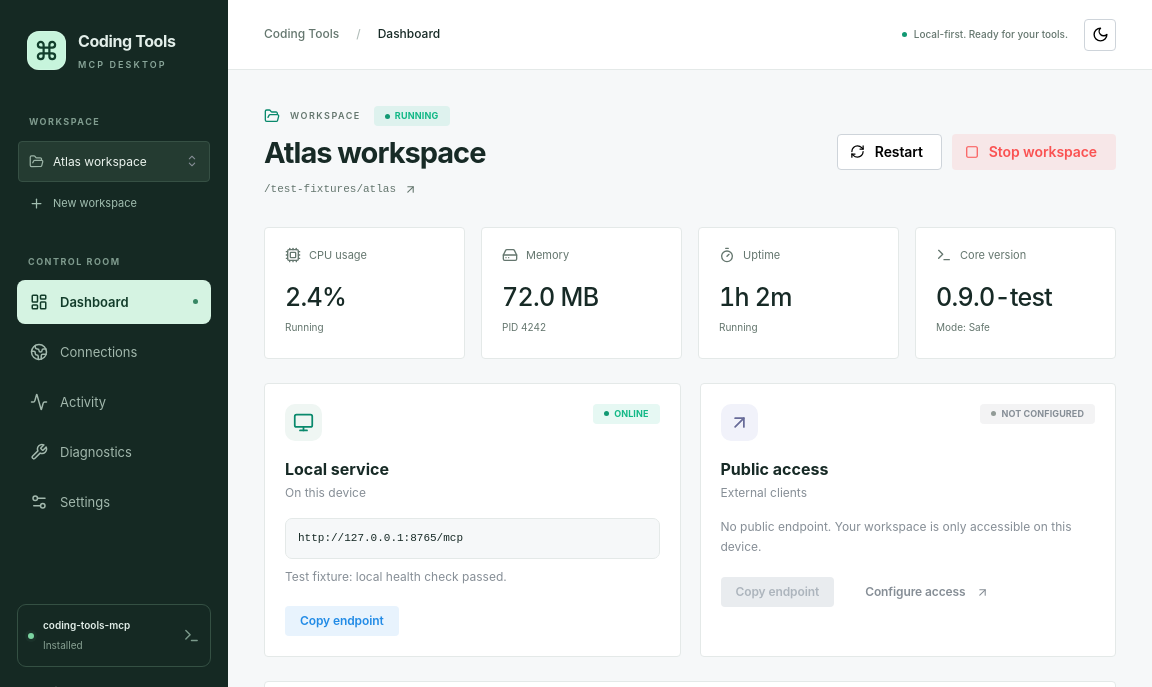
Test case: desktop interrupted and delayed IPC flows › clears accumulated log output when the backend resets a deleted log's cursor
Click the button "Diagnostics" at (114, 452), box [17, 430, 211, 474]
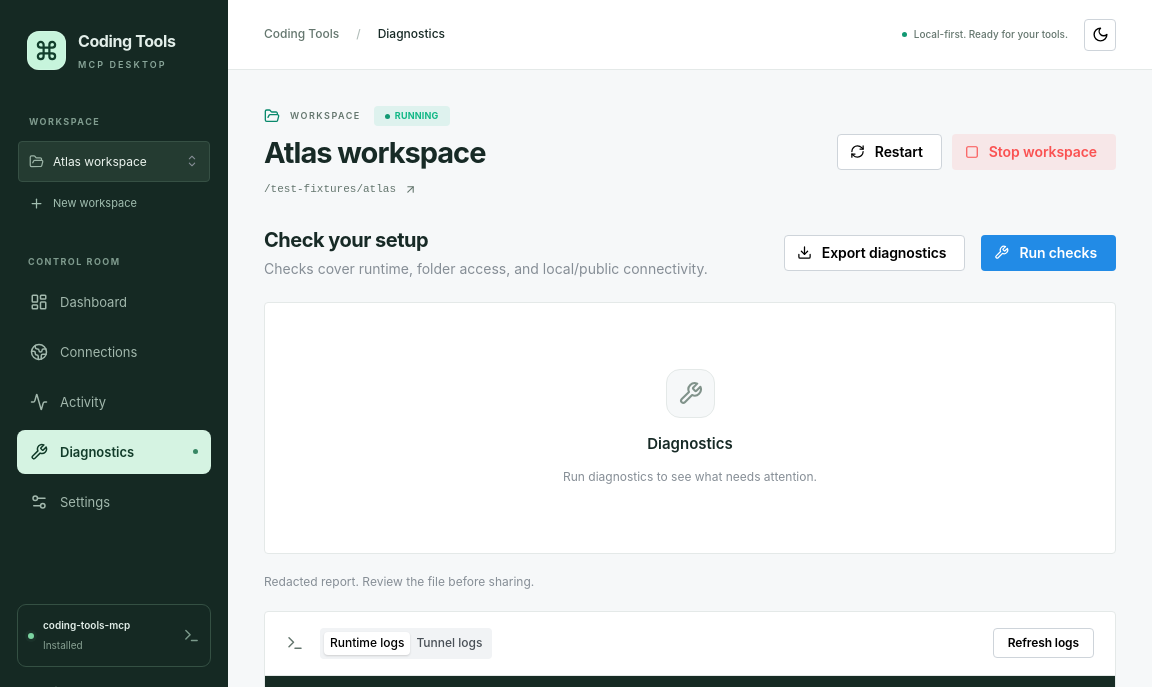
Click the button "Refresh logs" at (1043, 643), box [993, 628, 1094, 658]
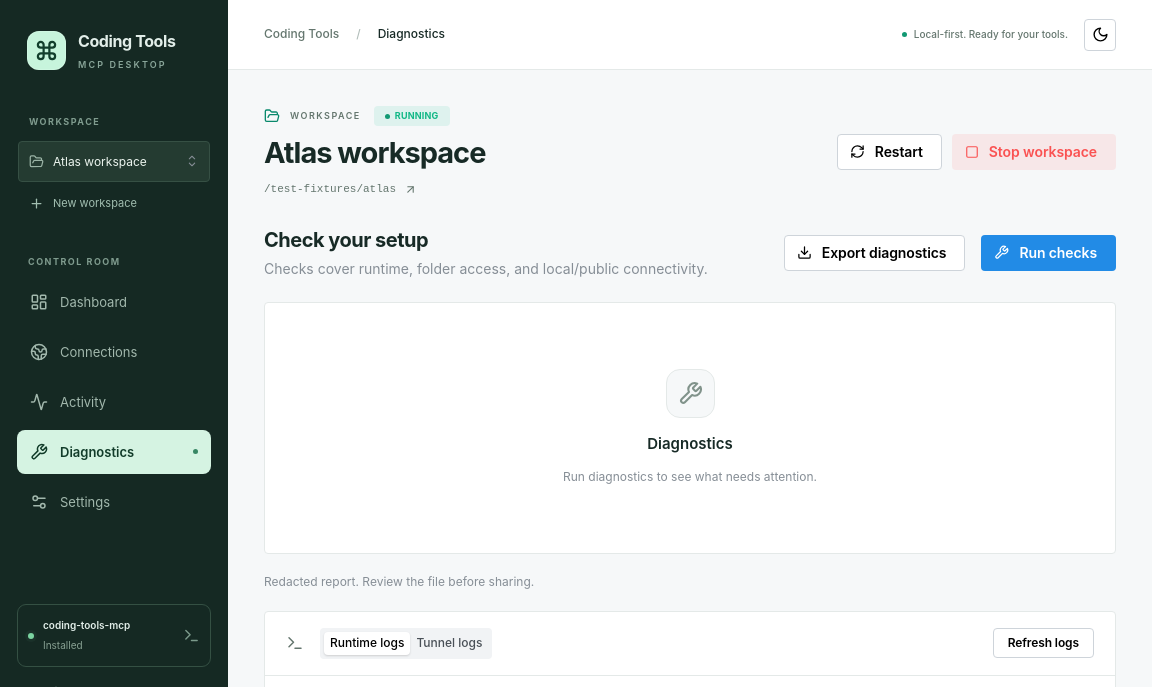
Click the button "Refresh logs" at (1043, 643), box [993, 628, 1094, 658]
(page scrolled)
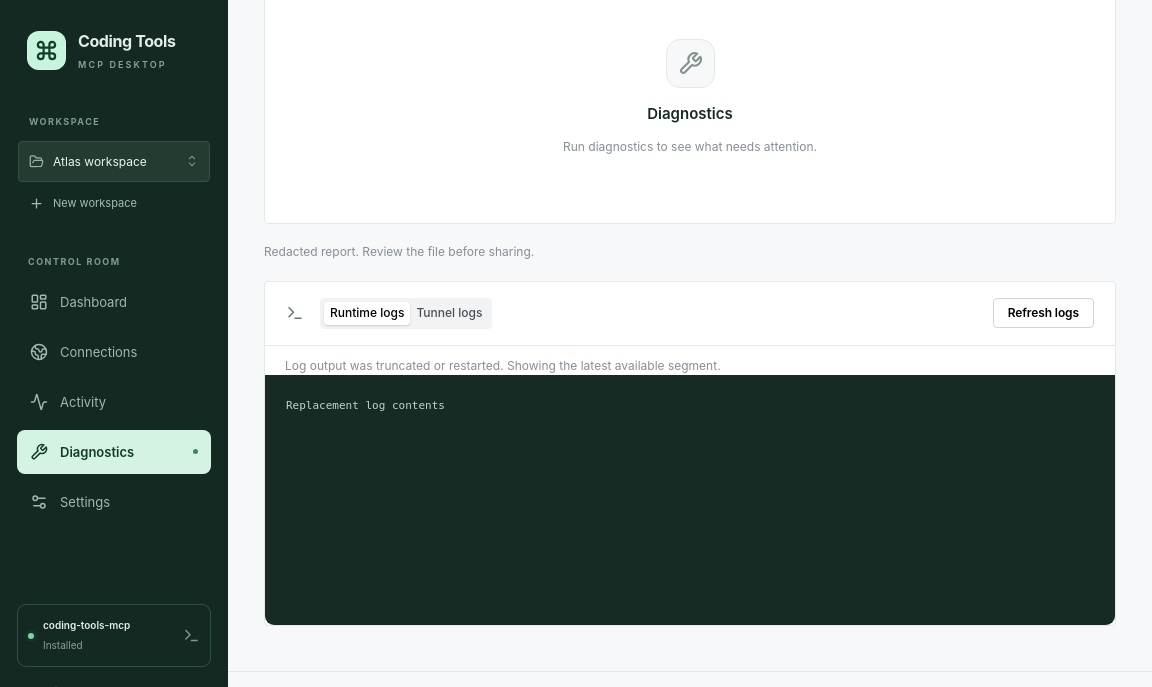
Now the text "Replacement log contents" is shown, box [265, 375, 1115, 625]
